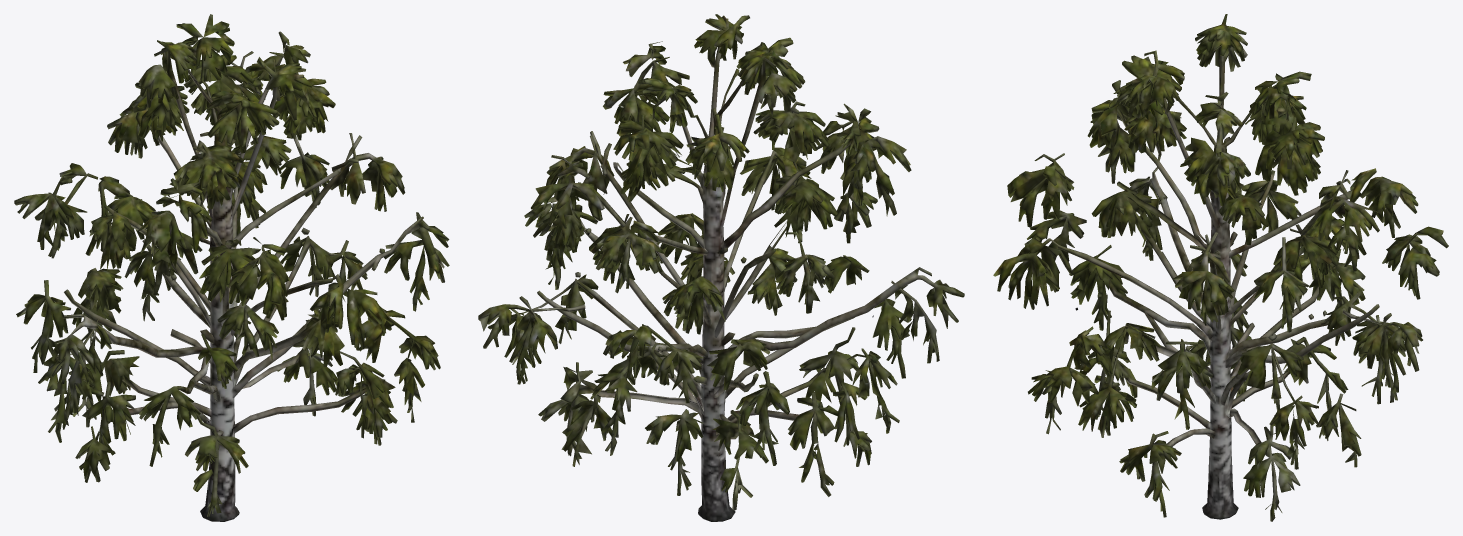
File: birch.glb
3 views of the same model, side by side, from view 1: azimuth 30°, elevation 25°; view 2: azimuth 150°, elevation 25°; view 3: azimuth 270°, elevation 25° (orthographic). The views are drawn at different scales.
Parts seen in each view (by area): view 1: tripo_node_e9322a60-07df-4191-af76-74254d8480a2; view 2: tripo_node_e9322a60-07df-4191-af76-74254d8480a2; view 3: tripo_node_e9322a60-07df-4191-af76-74254d8480a2.
Part boxes in pixels (x1,y1,x2,y2): tripo_node_e9322a60-07df-4191-af76-74254d8480a2: [14, 14, 449, 521]; tripo_node_e9322a60-07df-4191-af76-74254d8480a2: [478, 14, 964, 521]; tripo_node_e9322a60-07df-4191-af76-74254d8480a2: [993, 14, 1448, 521].
Size of the model in its own units: 0.864 by 0.9618 by 0.8451.
1 material, 1 textured.
